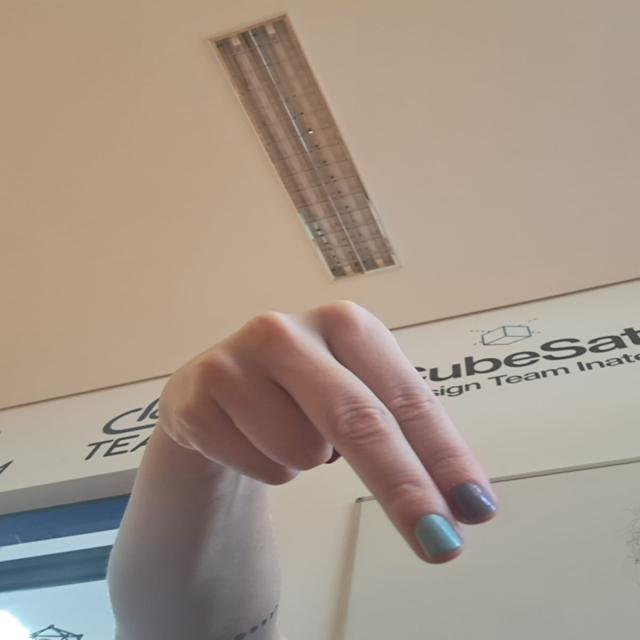N: (152, 286, 512, 578)
